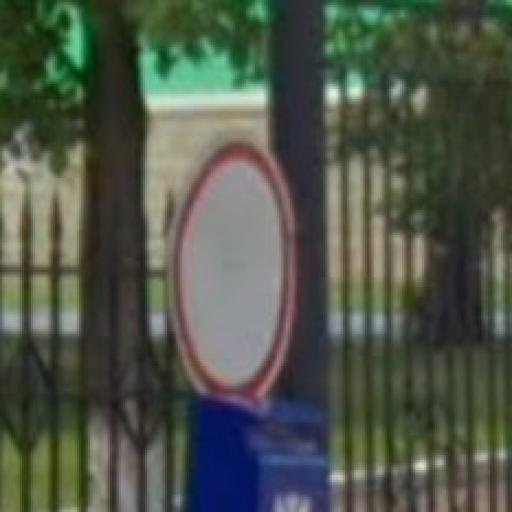traffic_sign: (166, 132, 298, 404)
